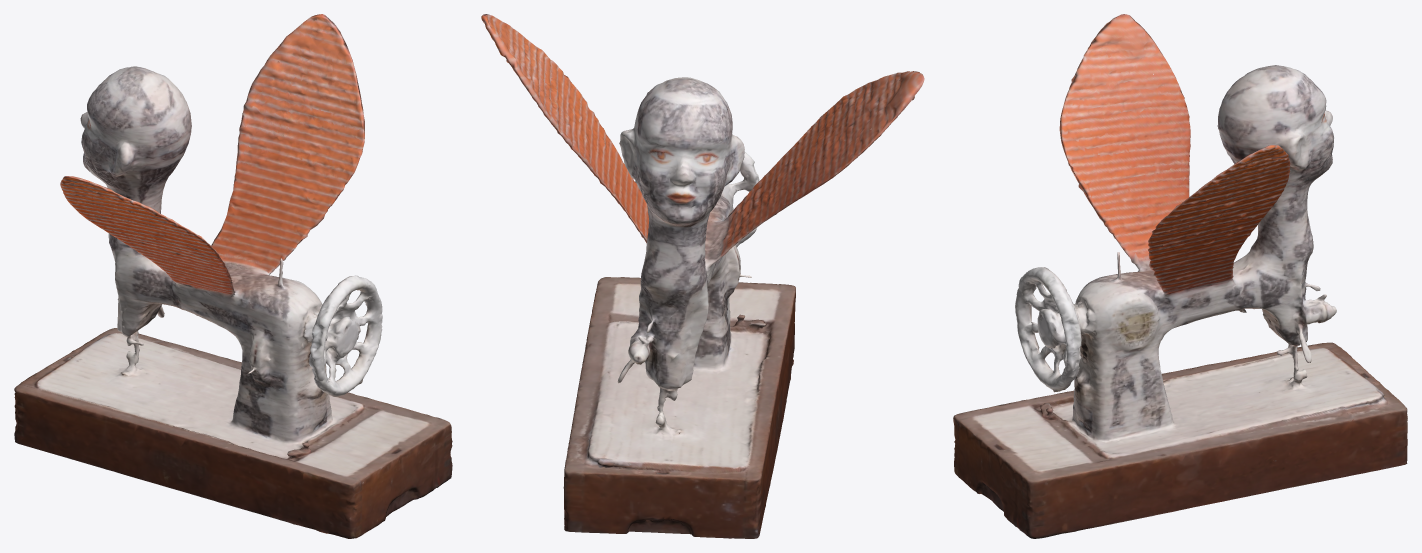
Rendered from yusuf-untitled-sewing-machine.glb.
The picture shows the model from 3 angles, left to right: view 1: azimuth 30°, elevation 25°; view 2: azimuth 150°, elevation 25°; view 3: azimuth 270°, elevation 25°; orthographic projection. The views are drawn at different scales.
Parts seen in each view (by area): view 1: SC_TAILOR_001; view 2: SC_TAILOR_001; view 3: SC_TAILOR_001.
Boxes of the visible parts, bbox=[...] form: SC_TAILOR_001: bbox=[14, 14, 452, 538]; SC_TAILOR_001: bbox=[481, 14, 924, 538]; SC_TAILOR_001: bbox=[953, 14, 1407, 538].
Bounding box in the file's own units: 22.6 × 24.29 × 25.71.
1 material, 1 textured.
